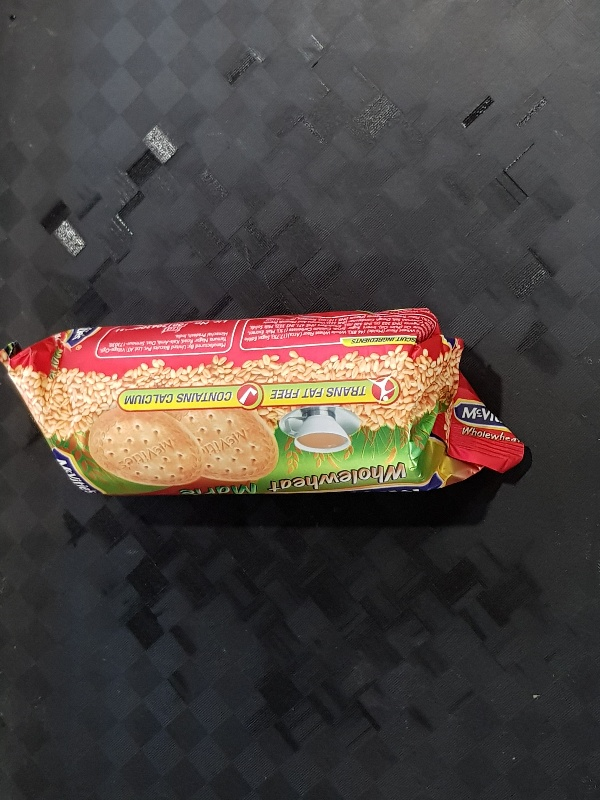McVitie's Wholewheat Marie: (2, 305, 525, 501)
